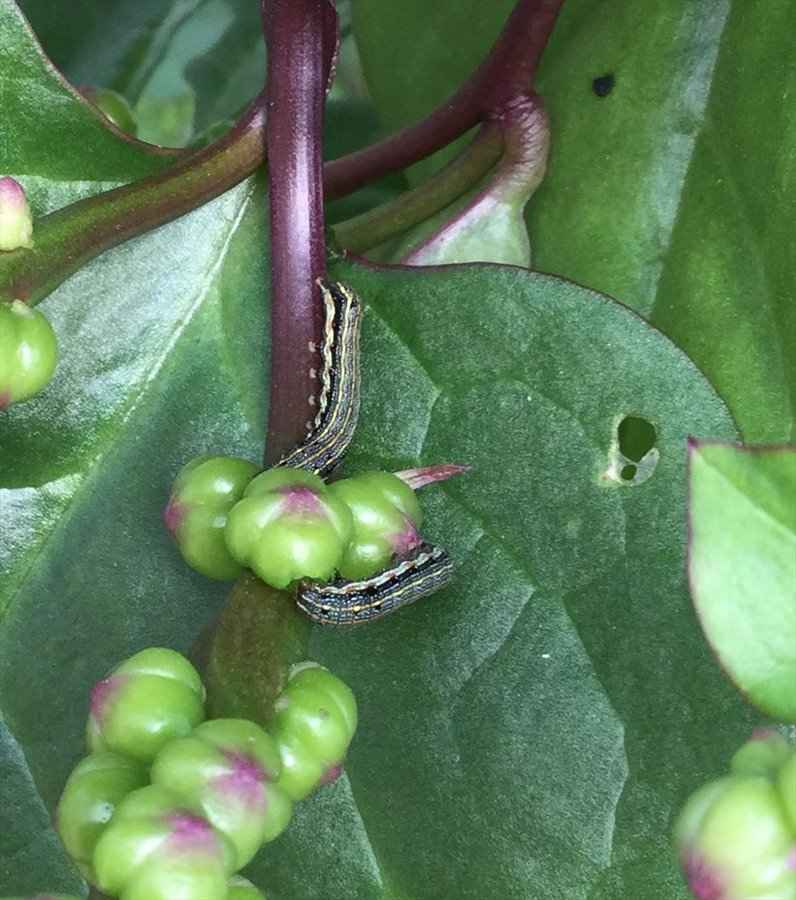Armyworm: (263, 269, 388, 494), (284, 532, 457, 655)
